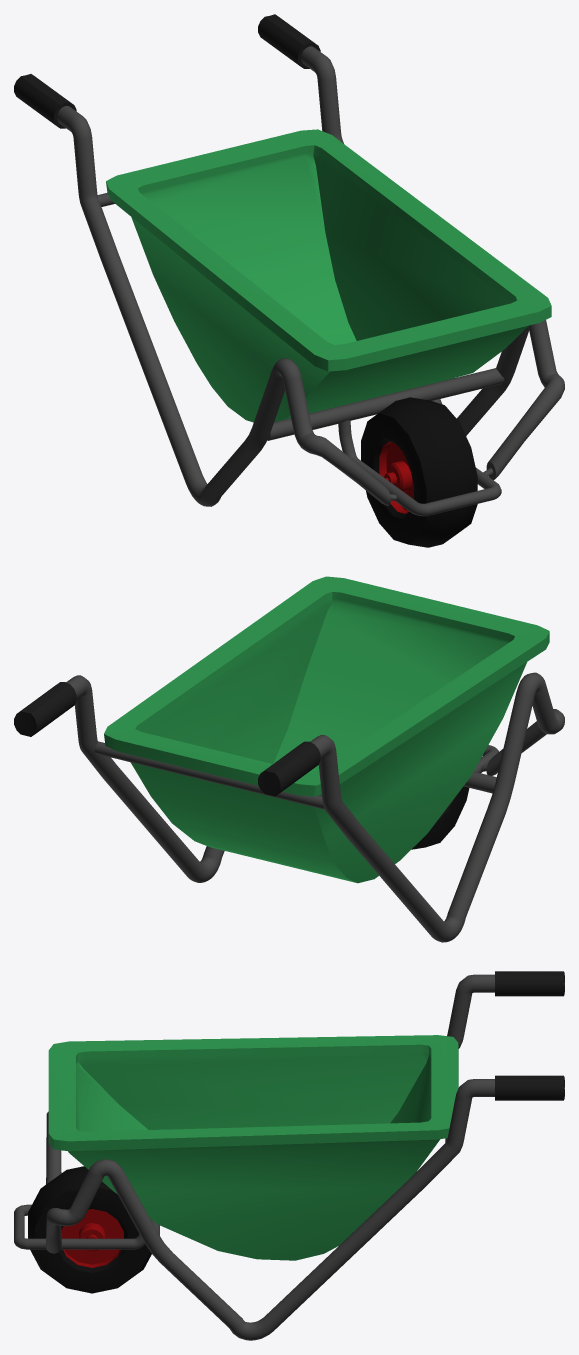
Rendered from mesh_brouette.fbx.
3 views of the same model, one above another, from view 1: azimuth 30°, elevation 25°; view 2: azimuth 150°, elevation 25°; view 3: azimuth 270°, elevation 25° (orthographic). The views are drawn at different scales.
Visible parts, largest first — view 1: Plane001; view 2: Plane001; view 3: Plane001.
Part boxes in pixels (<box>): Plane001: <box>14,14,564,547</box>; Plane001: <box>14,576,564,942</box>; Plane001: <box>14,971,564,1340</box>.
Size of the model in its own units: 0.7303 by 0.7869 by 1.49.
